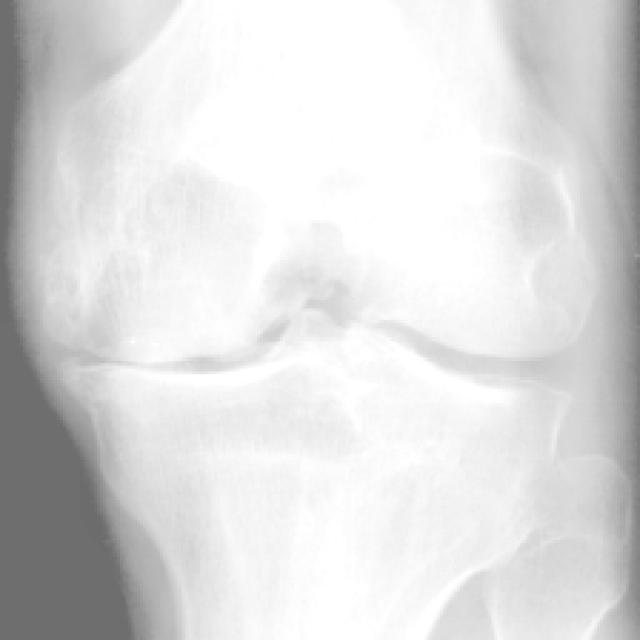femur: (37, 0, 602, 362)
tibia: (54, 311, 575, 637)
